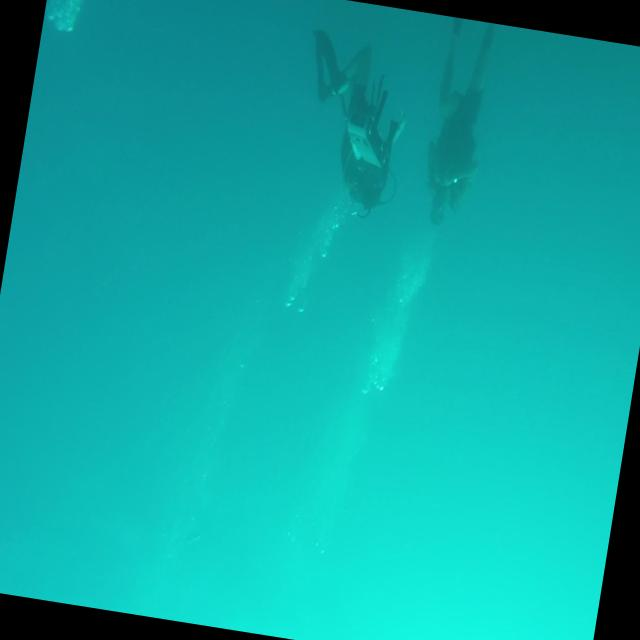human: (285, 27, 418, 224), (414, 17, 500, 234)
